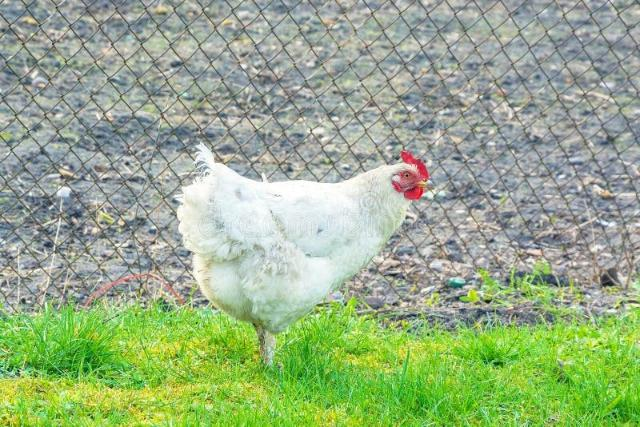Chicken: (178, 142, 434, 363)
